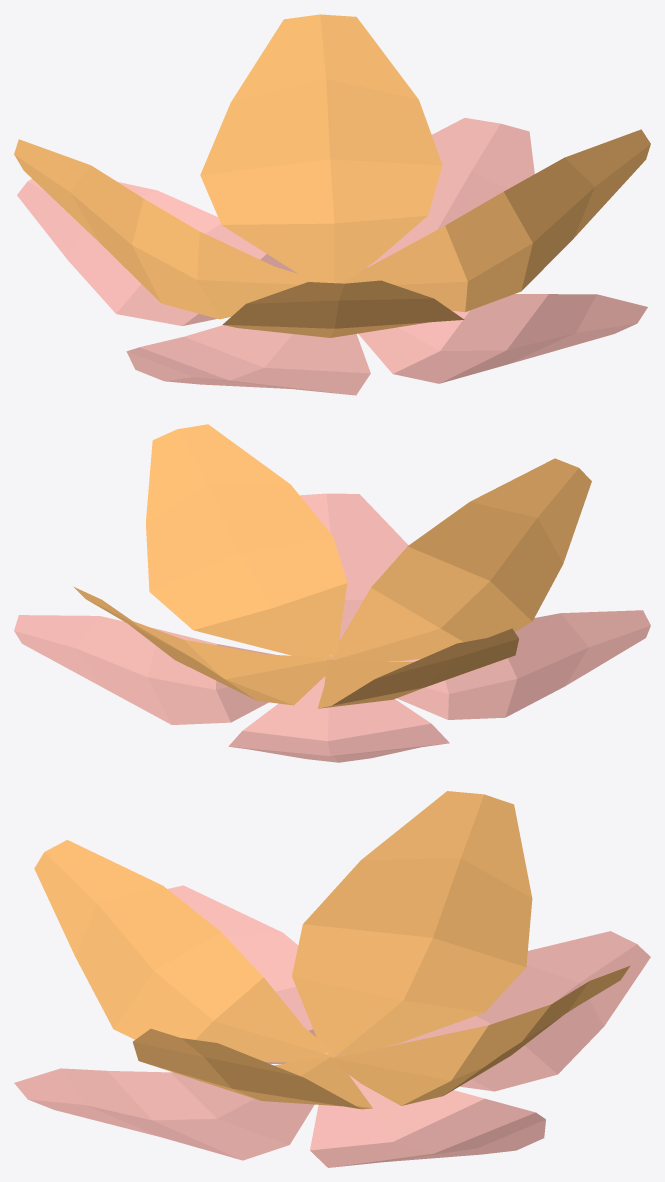
Rendered from waterlily_white_flower.obj.
The picture shows the model from 3 angles, top to bottom: view 1: azimuth 30°, elevation 25°; view 2: azimuth 150°, elevation 25°; view 3: azimuth 270°, elevation 25°; orthographic projection. The views are drawn at different scales.
Parts seen in each view (by area): view 1: Flower_White_Plane.002; view 2: Flower_White_Plane.002; view 3: Flower_White_Plane.002.
Boxes of the visible parts, x1,y1,x2,y2 form: Flower_White_Plane.002: (14, 14, 650, 395); Flower_White_Plane.002: (14, 424, 650, 762); Flower_White_Plane.002: (14, 791, 650, 1167).
Bounding box in the file's own units: 0.1133 × 0.0348 × 0.1133.
